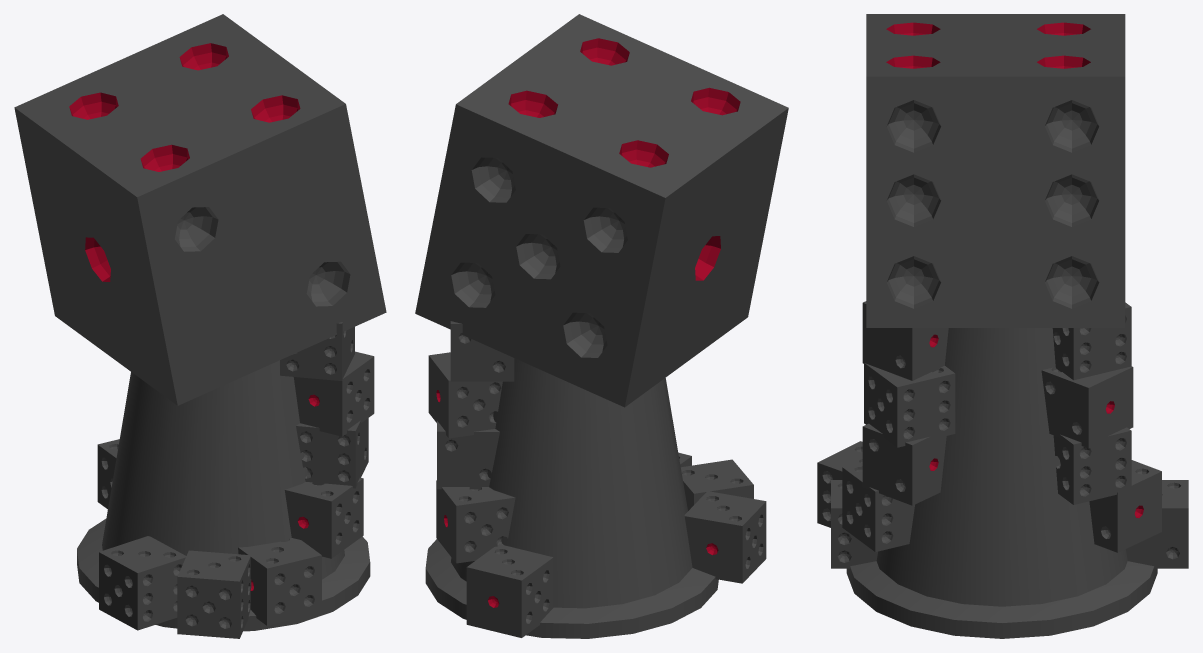
File: monster01.fbx
3 renders of one model, left to right at view 1: azimuth 30°, elevation 25°; view 2: azimuth 150°, elevation 25°; view 3: azimuth 270°, elevation 25°, orthographic. The views are drawn at different scales.
Visible parts, largest first — view 1: pCube660; view 2: pCube660; view 3: pCube660.
Part boxes in pixels (x1,y1,x2,y2): pCube660: (14,14,386,638); pCube660: (415,14,788,638); pCube660: (817,14,1188,638).
Bounding box in the file's own units: 3.87 × 6.62 × 4.23.
